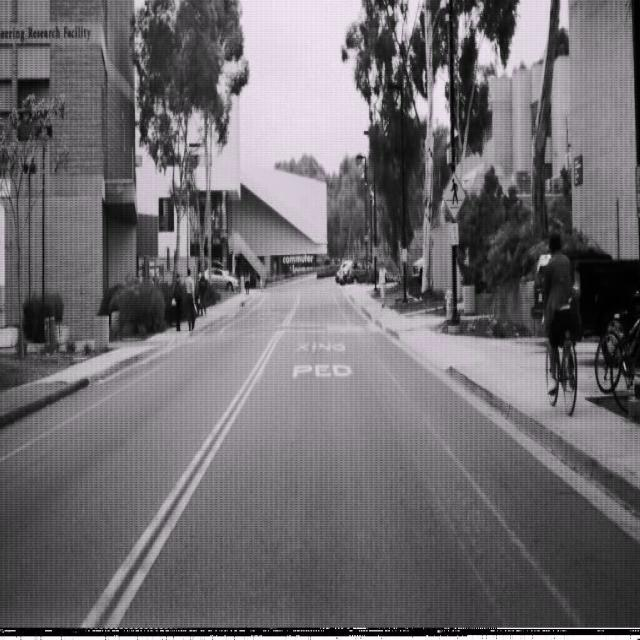pedestrianCrossing: (441, 169, 467, 220)
